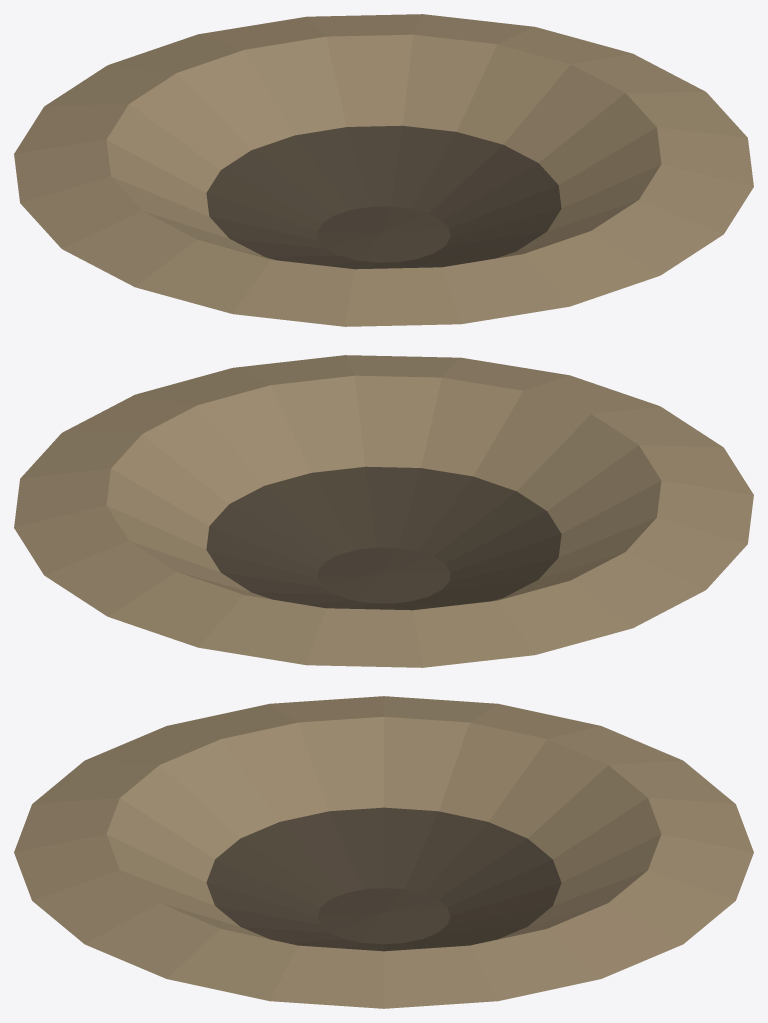
Rendered from ground-crater.glb.
3 views of the same model, one above another, from view 1: azimuth 30°, elevation 25°; view 2: azimuth 150°, elevation 25°; view 3: azimuth 270°, elevation 25° (orthographic).
Parts seen in each view (by area): view 1: ground-crater; view 2: ground-crater; view 3: ground-crater.
Part boxes in pixels (x1,y1,x2,y2): ground-crater: (14,14,753,326); ground-crater: (14,355,753,667); ground-crater: (14,696,753,1008).
Bounding box in the file's own units: 2 × 0.245 × 2.
